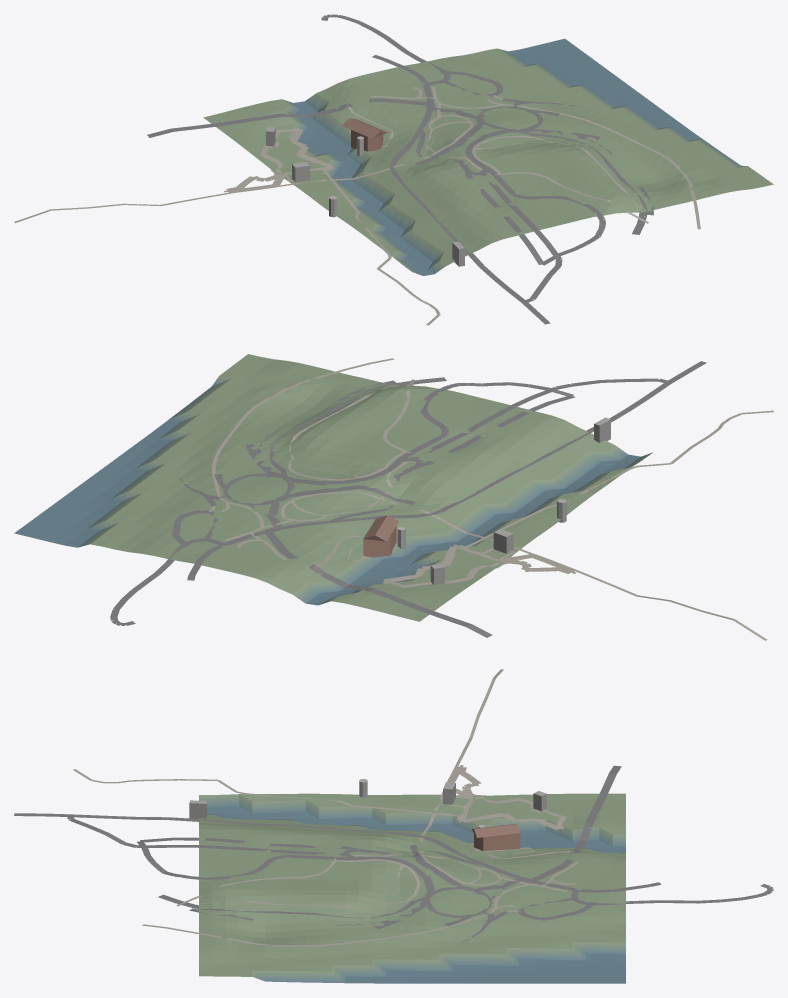
File: tile_8_-2.glb
The picture shows the model from 3 angles, top to bottom: view 1: azimuth 30°, elevation 25°; view 2: azimuth 150°, elevation 25°; view 3: azimuth 270°, elevation 25°; orthographic projection. The views are drawn at different scales.
Visible parts, largest first — view 1: terrain, roads, buildings; view 2: terrain, roads, buildings; view 3: terrain, roads, buildings.
Boxes of the visible parts, <box> form: terrain: <box>203,38,773,275</box>; roads: <box>14,14,700,325</box>; buildings: <box>266,118,464,266</box>; terrain: <box>14,354,652,621</box>; roads: <box>110,358,773,640</box>; buildings: <box>363,417,610,584</box>; terrain: <box>199,793,625,983</box>; roads: <box>14,669,773,946</box>; buildings: <box>189,779,546,850</box>.
Bounding box in the file's own units: 432 × 16.92 × 456.
